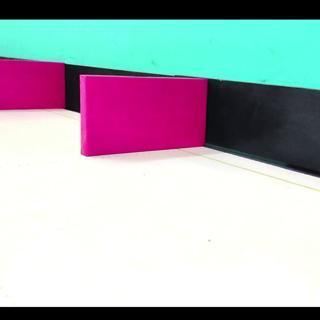xparking: (86, 76, 207, 155), (0, 64, 65, 110)
